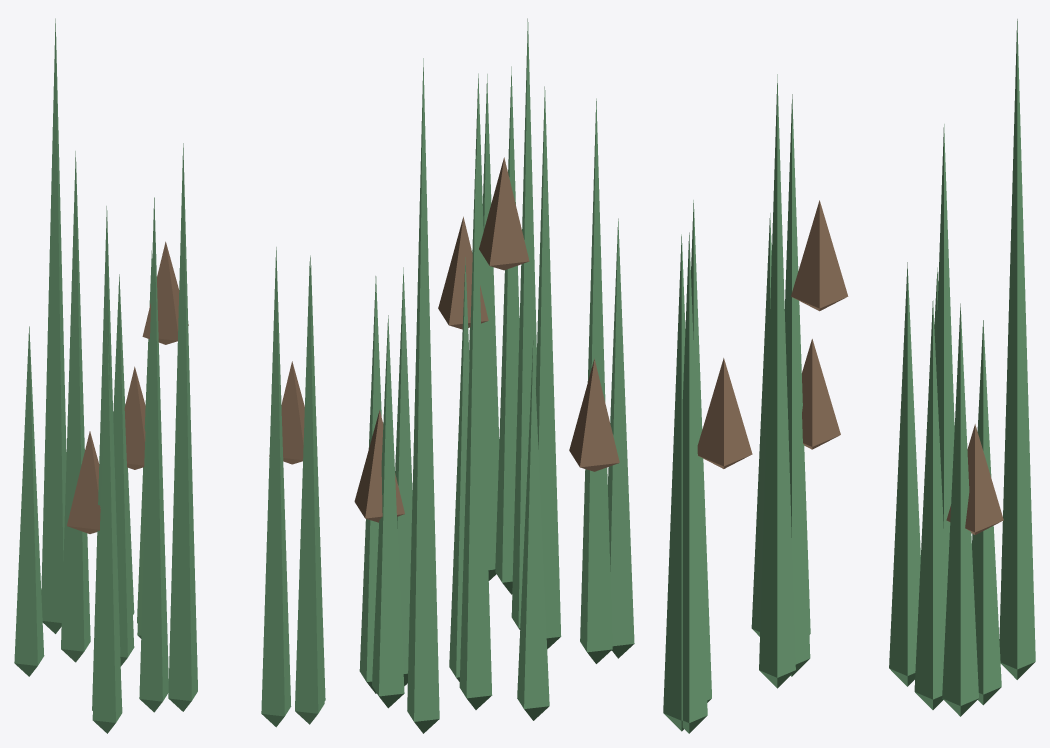
Rendered from town_reed_clump.glb.
3 renders of one model, left to right at view 1: azimuth 30°, elevation 25°; view 2: azimuth 150°, elevation 25°; view 3: azimuth 270°, elevation 25°, orthographic. The views are drawn at different scales.
Visible parts, largest first — view 1: world; view 2: world; view 3: world.
Part boxes in pixels (x1=…): world: x1=14, y1=18, x2=325, y2=733; world: x1=354, y1=18, x2=634, y2=733; world: x1=663, y1=19, x2=1035, y2=733.
Size of the model in its own units: 0.6999 by 2 by 1.01.
